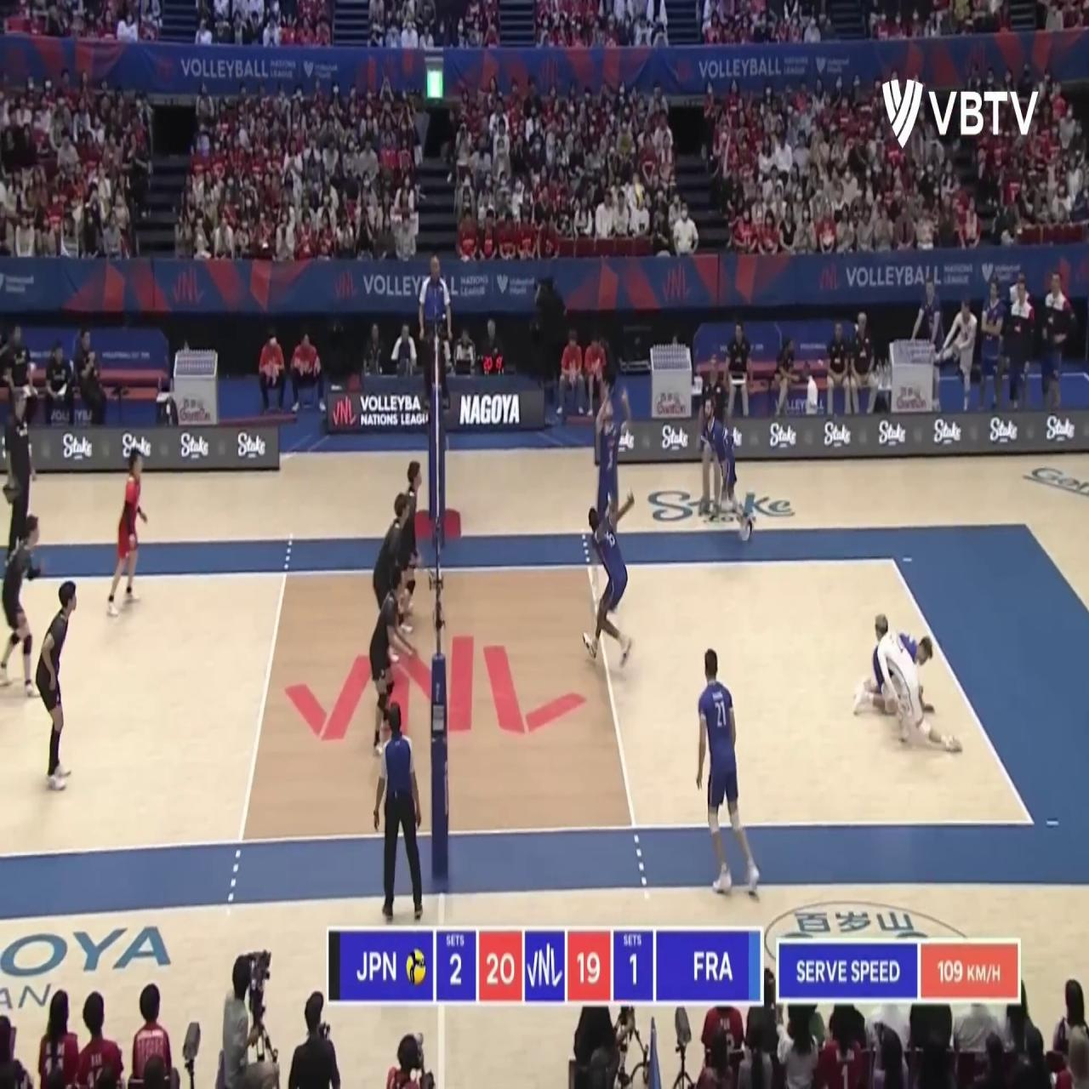ball: (632, 185, 645, 211)
